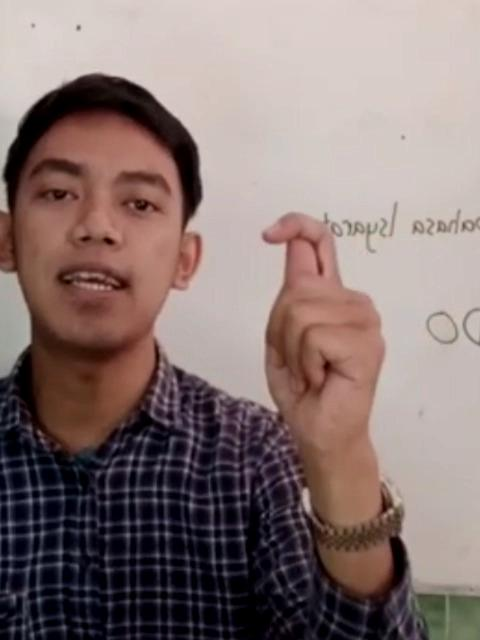T: (264, 210, 386, 460)
